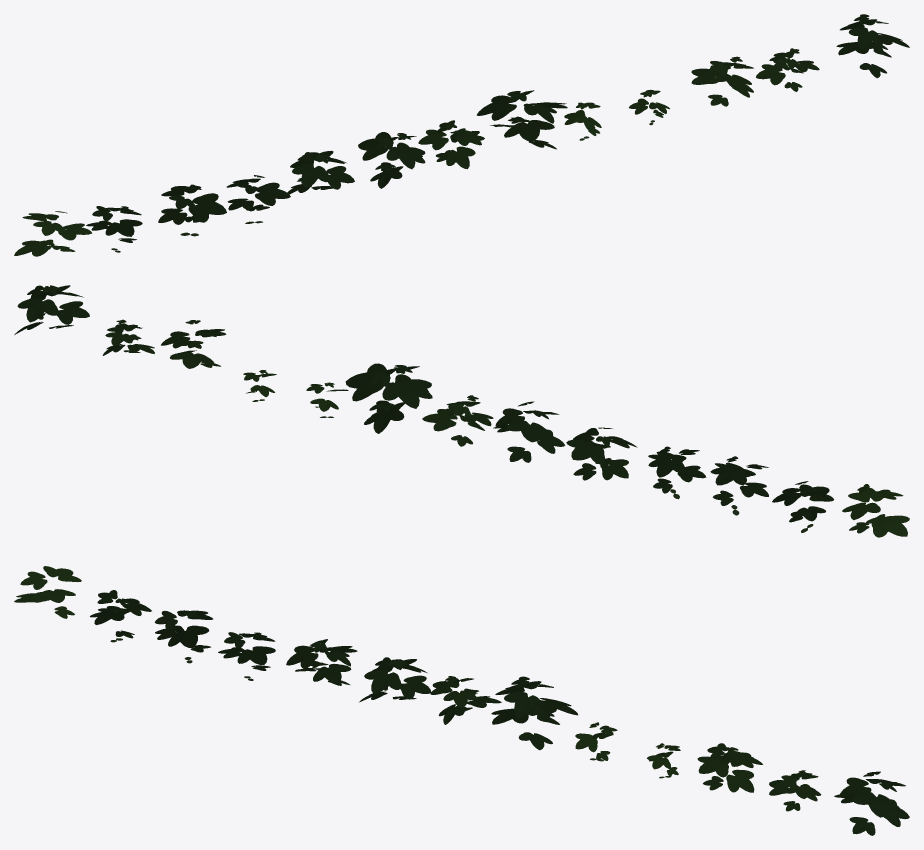
File: ROW_10_SEG5_foliage.dae
The picture shows the model from 3 angles, top to bottom: view 1: azimuth 30°, elevation 25°; view 2: azimuth 150°, elevation 25°; view 3: azimuth 330°, elevation 25°; orthographic projection.
Parts seen in each view (by area): view 1: ROW_10_SEG5_foliage; view 2: ROW_10_SEG5_foliage; view 3: ROW_10_SEG5_foliage.
Part boxes in pixels (<box>): ROW_10_SEG5_foliage: <box>14,14,909,256</box>; ROW_10_SEG5_foliage: <box>14,285,909,537</box>; ROW_10_SEG5_foliage: <box>14,566,909,835</box>.
Size of the model in its own units: 3.98 by 0.354 by 0.2794.
